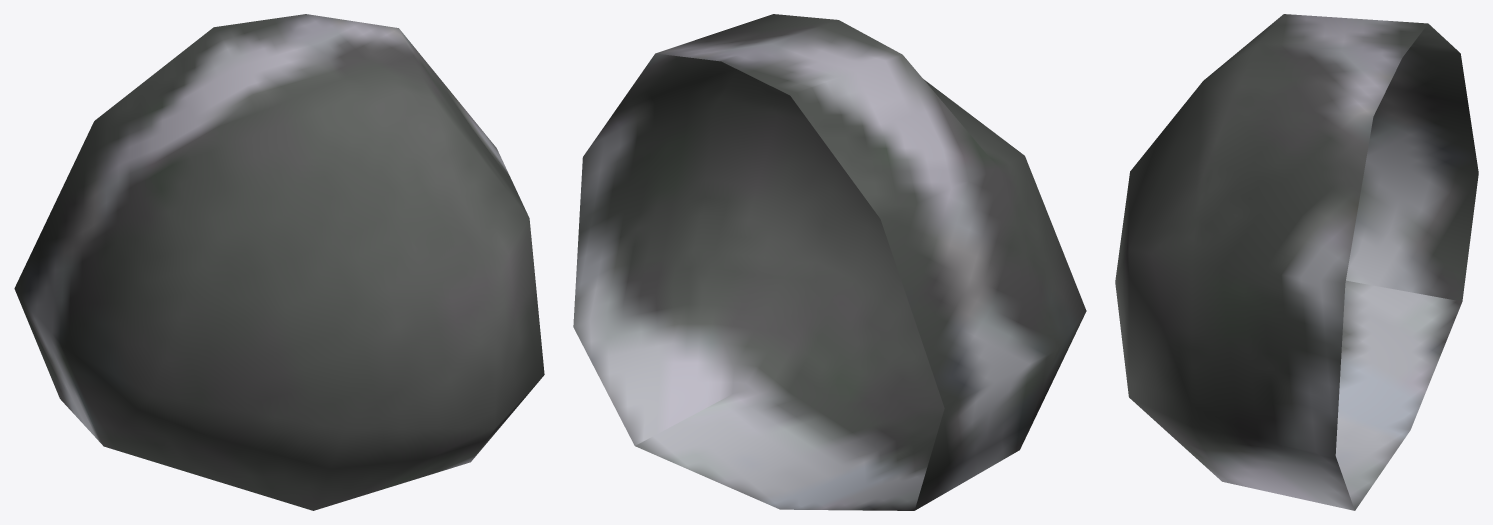
Rendered from Homeworld_Exterior_Common_Prop_Thing_SnowmanNose_03_Vo.fbx.
3 views of the same model, side by side, from view 1: azimuth 30°, elevation 25°; view 2: azimuth 150°, elevation 25°; view 3: azimuth 270°, elevation 25° (orthographic). The views are drawn at different scales.
Visible parts, largest first — view 1: Homeworld_Exterior_Common_Prop_Thing_SnowmanNose_03_Vo; view 2: Homeworld_Exterior_Common_Prop_Thing_SnowmanNose_03_Vo; view 3: Homeworld_Exterior_Common_Prop_Thing_SnowmanNose_03_Vo.
Boxes of the visible parts, x1=… form: Homeworld_Exterior_Common_Prop_Thing_SnowmanNose_03_Vo: x1=14, y1=14, x2=544, y2=510; Homeworld_Exterior_Common_Prop_Thing_SnowmanNose_03_Vo: x1=573, y1=14, x2=1086, y2=510; Homeworld_Exterior_Common_Prop_Thing_SnowmanNose_03_Vo: x1=1115, y1=14, x2=1478, y2=510.
Bounding box in the file's own units: 0.1313 × 0.113 × 0.0925.
